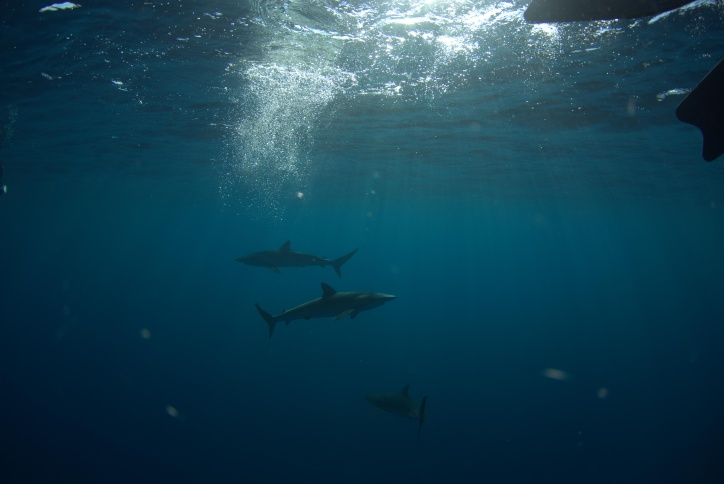Sedoso: (233, 278, 409, 340)
